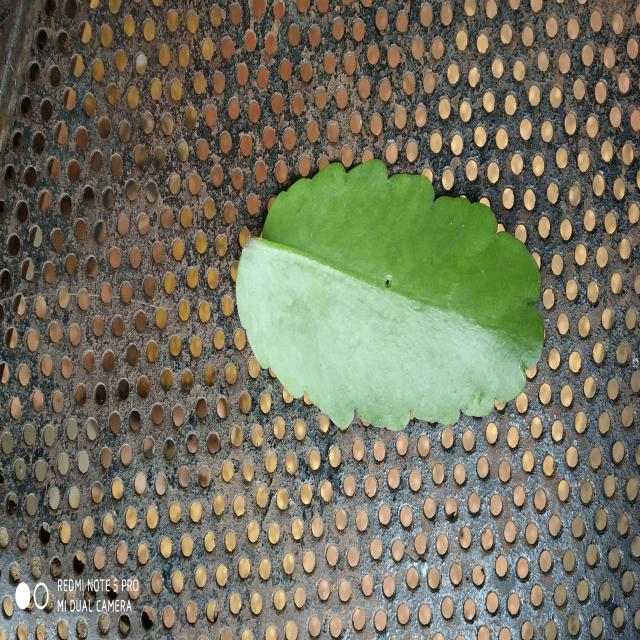spinach: (236, 160, 544, 431)
